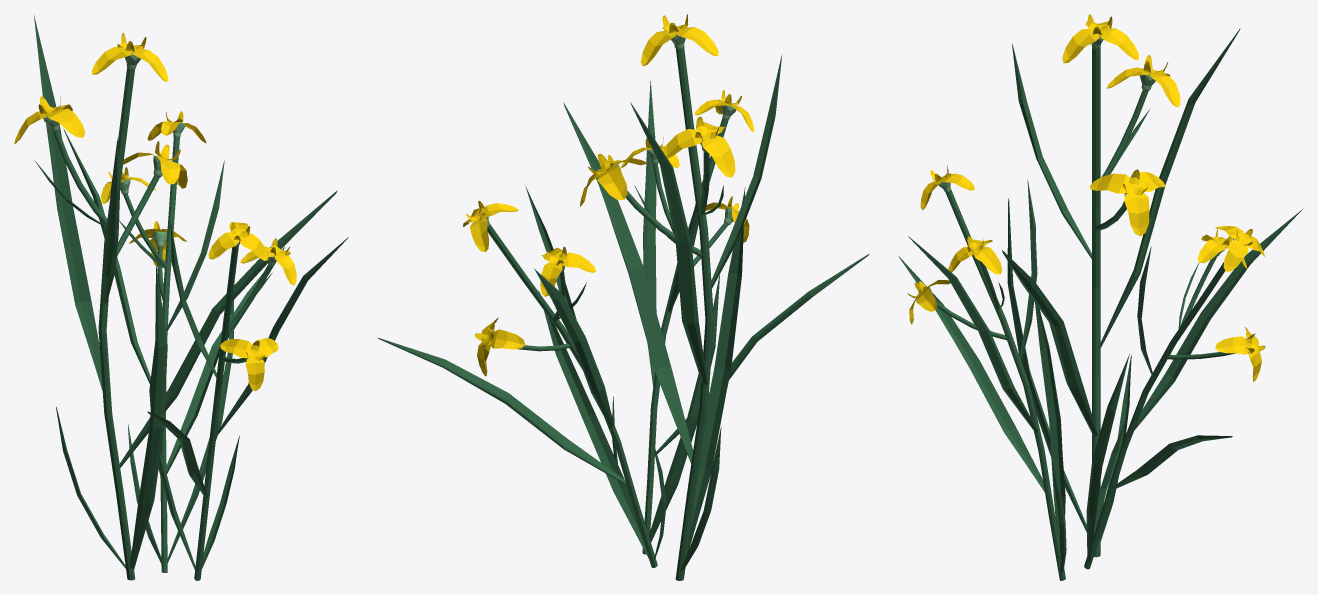
The model's file is mod_vg_irisd'eau.fbx.
3 renders of one model, left to right at view 1: azimuth 30°, elevation 25°; view 2: azimuth 150°, elevation 25°; view 3: azimuth 270°, elevation 25°, orthographic. The views are drawn at different scales.
Visible parts, largest first — view 1: tige1, fleur8, fleur1, fleur2, fleur3, fleur7, fleur4, fleur9, fleur6, fleur5; view 2: tige1, fleur2, fleur1, fleur7, fleur5, fleur6, fleur9, fleur3; view 3: tige1, fleur7, fleur1, fleur2, fleur9, fleur6, fleur4, fleur3, fleur8, fleur5.
Part boxes in pixels (left/top/right/bottom): tige1: left=34, top=15, right=348, bottom=580; fleur8: left=220, top=338, right=278, bottom=391; fleur1: left=91, top=33, right=168, bottom=81; fleur2: left=14, top=96, right=85, bottom=143; fleur3: left=208, top=222, right=267, bottom=260; fleur7: left=123, top=141, right=187, bottom=188; fleur4: left=240, top=238, right=296, bottom=285; fleur9: left=147, top=111, right=206, bottom=143; fleur6: left=129, top=221, right=186, bottom=266; fleur5: left=101, top=167, right=156, bottom=203; tige1: left=377, top=47, right=869, bottom=580; fleur2: left=662, top=116, right=735, bottom=177; fleur1: left=640, top=14, right=718, bottom=66; fleur7: left=580, top=153, right=646, bottom=206; fleur5: left=540, top=246, right=595, bottom=296; fleur6: left=474, top=317, right=525, bottom=376; fleur9: left=463, top=201, right=518, bottom=252; fleur3: left=695, top=90, right=754, bottom=132; tige1: left=898, top=28, right=1303, bottom=580; fleur7: left=1090, top=169, right=1165, bottom=236; fleur1: left=1062, top=14, right=1138, bottom=63; fleur2: left=1106, top=54, right=1180, bottom=107; fleur9: left=1215, top=226, right=1264, bottom=271; fleur6: left=1215, top=327, right=1265, bottom=381; fleur4: left=948, top=236, right=1002, bottom=274; fleur3: left=920, top=165, right=974, bottom=209; fleur8: left=907, top=280, right=950, bottom=324; fleur5: left=1197, top=229, right=1247, bottom=268.
Size of the model in its own units: 63.6 by 108 by 73.19.
